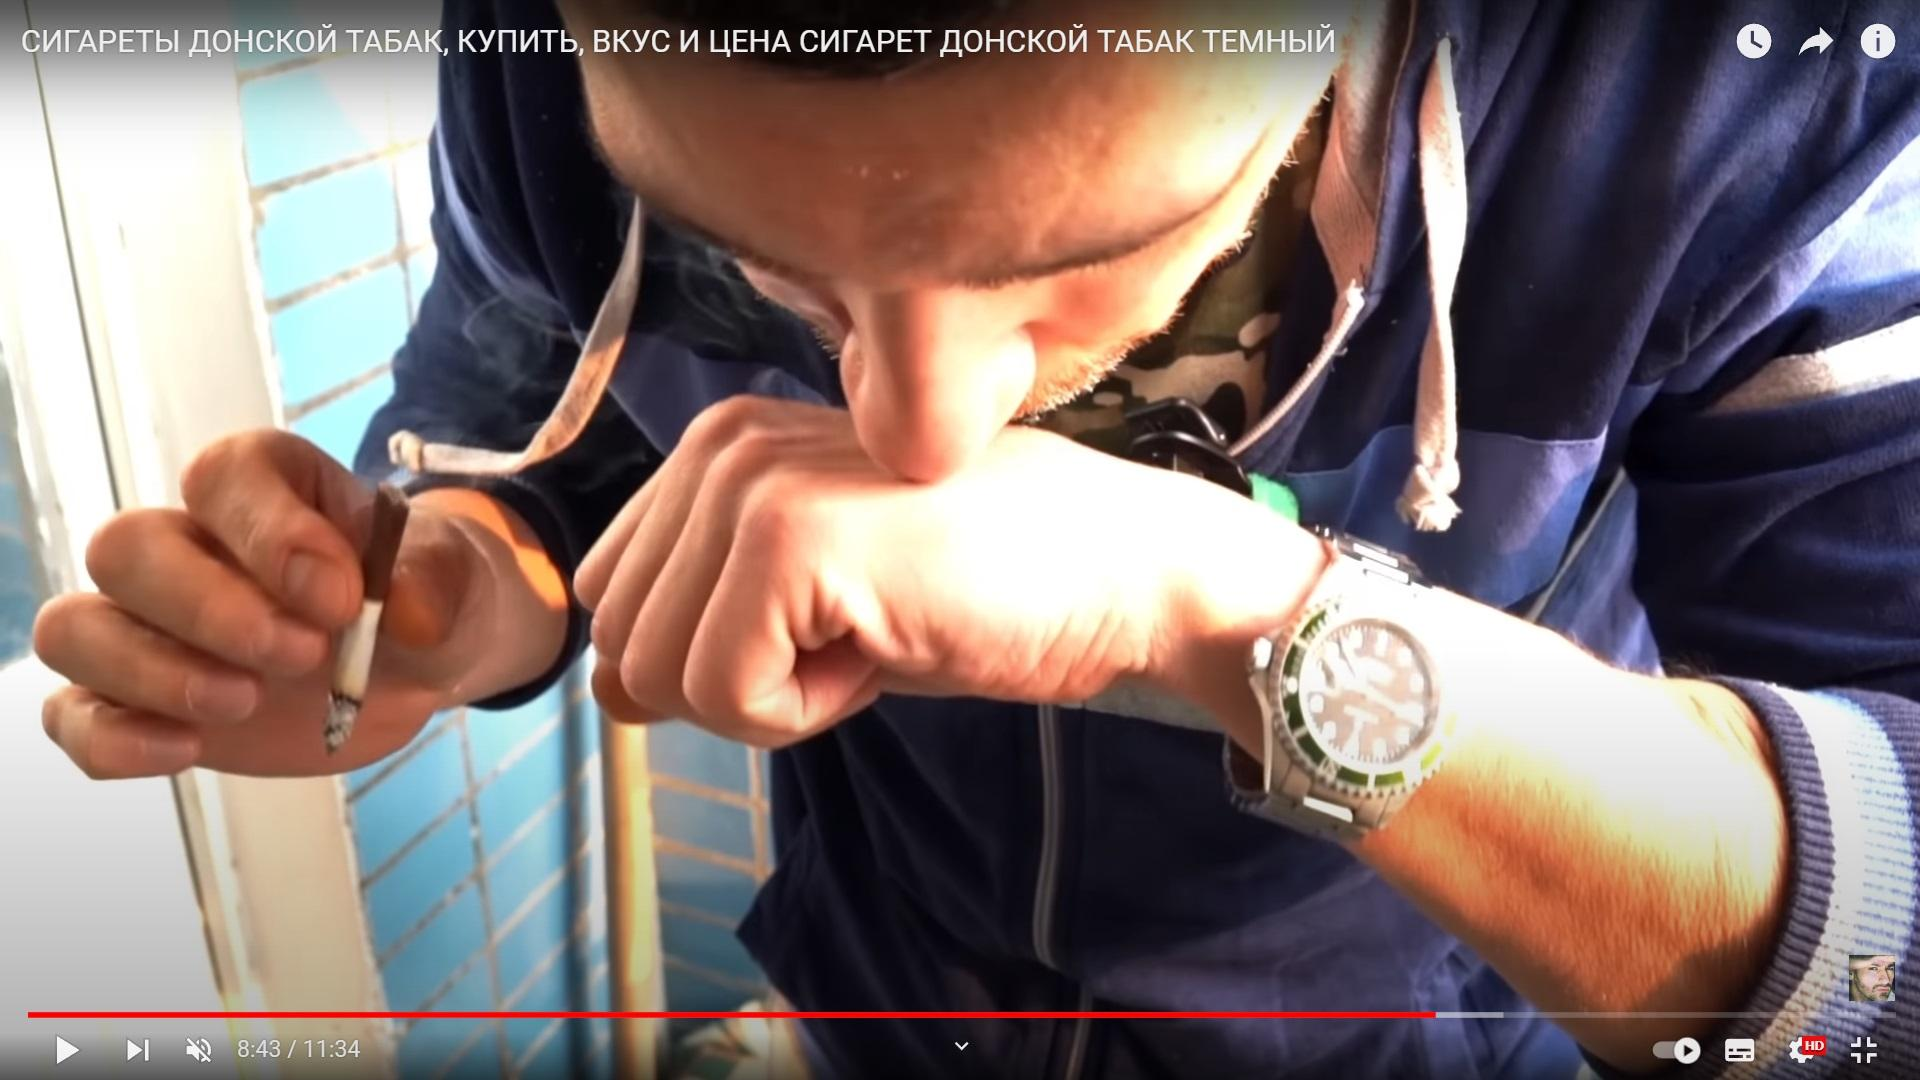cigarette: (322, 479, 411, 758)
